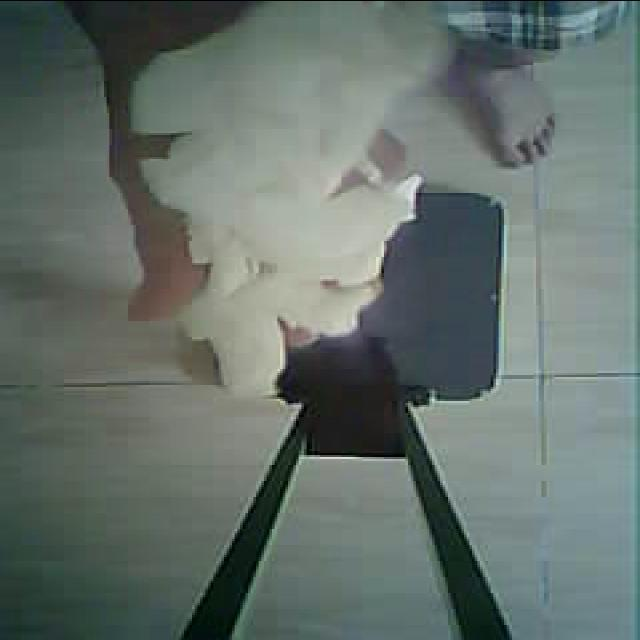Paper: (74, 0, 517, 420)
